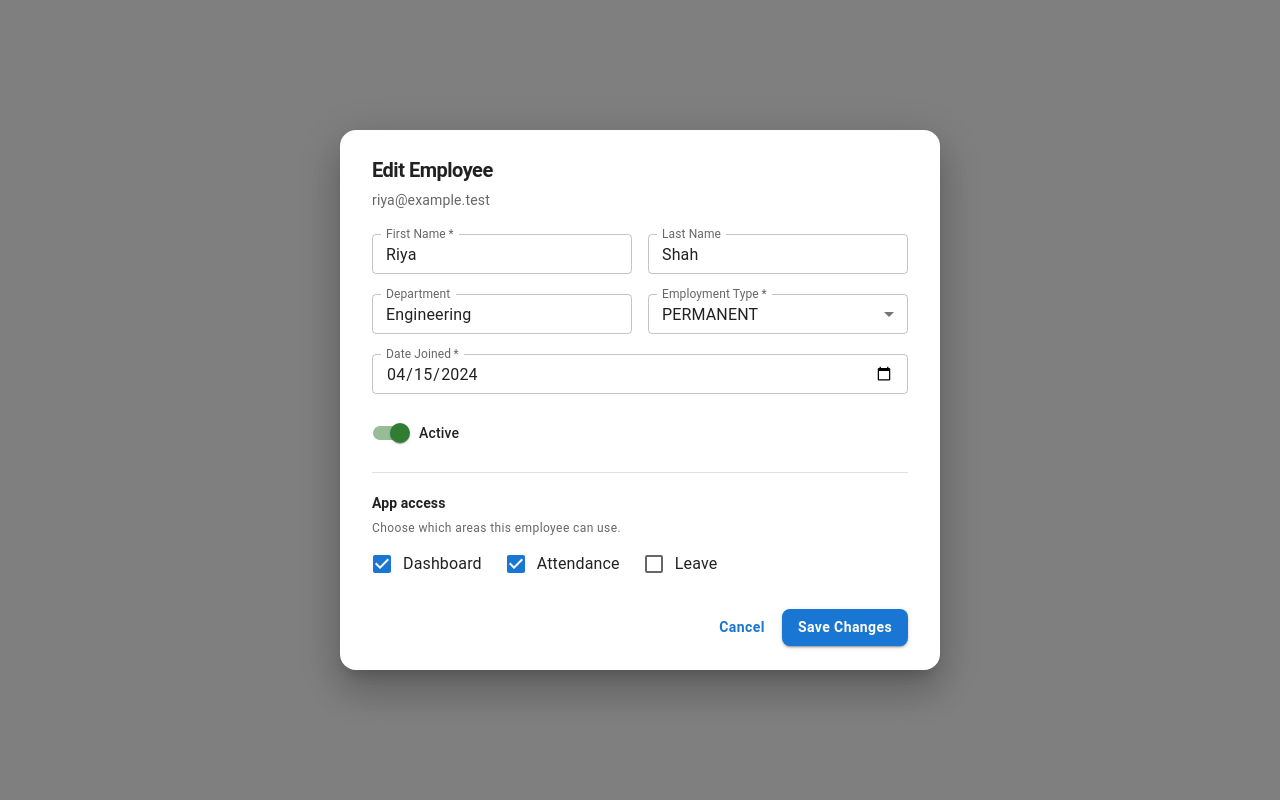
it: reports a rejected update and retains the edited values
Replace the text in the field labelled "First Name *" with "Ria". click: (502, 254)
box: x1=372 y1=234 x2=632 y2=274
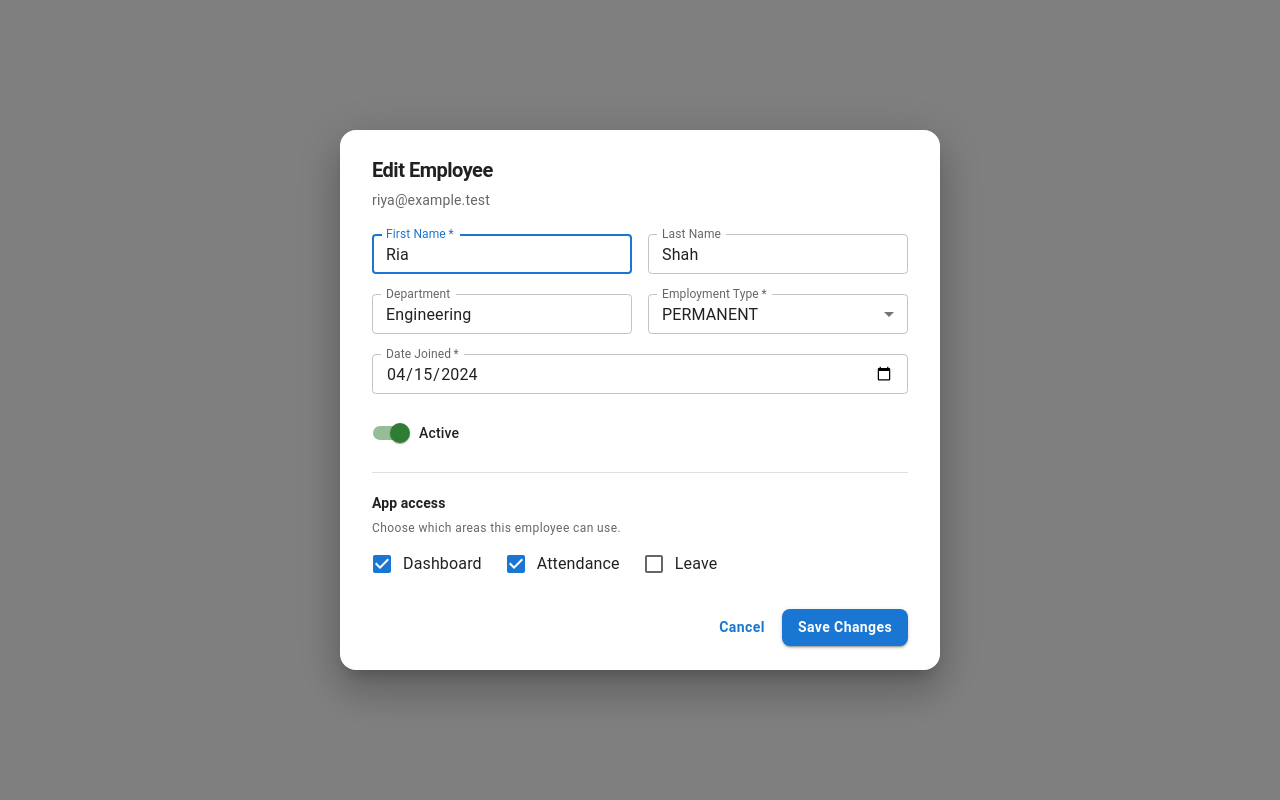
Click the button "Save Changes". click: (845, 627)
box: x1=782 y1=609 x2=908 y2=646
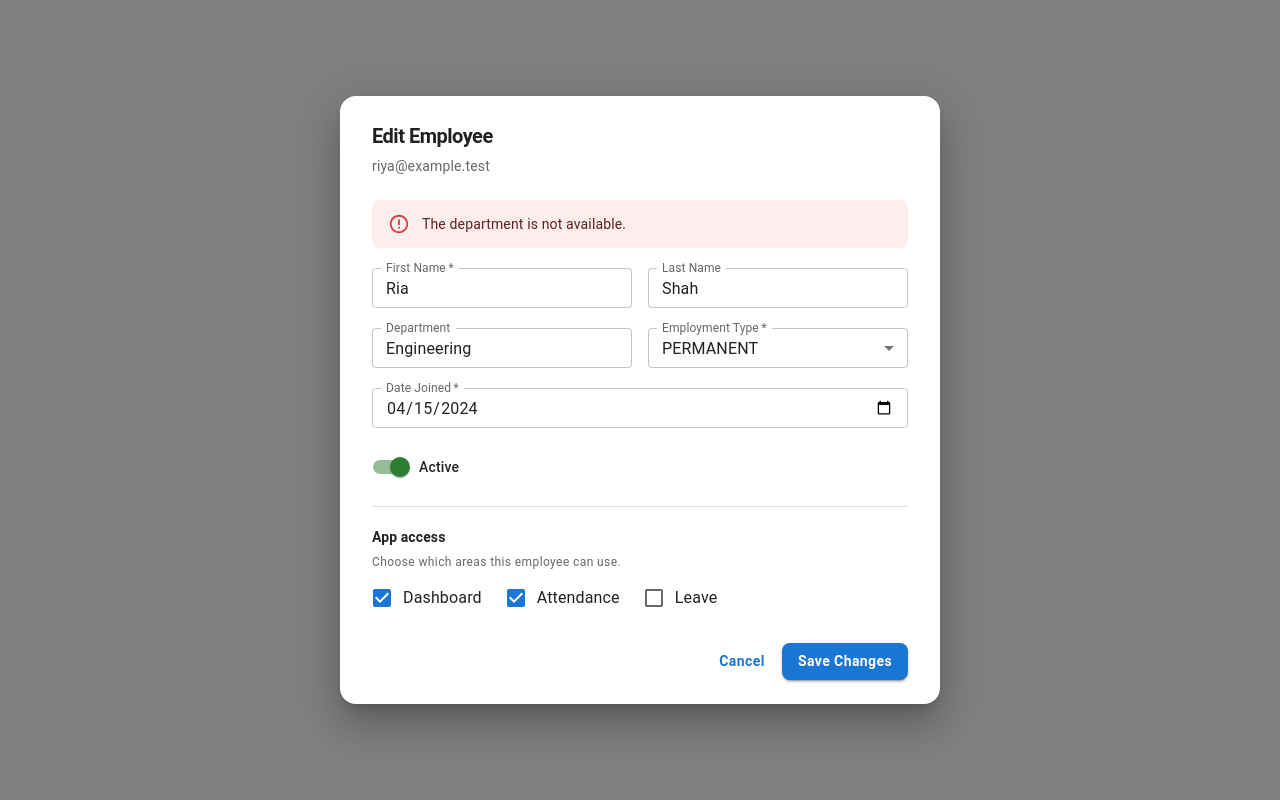
Expected: the text "The department is not available." is shown, x1=422 y1=216 x2=626 y2=232
